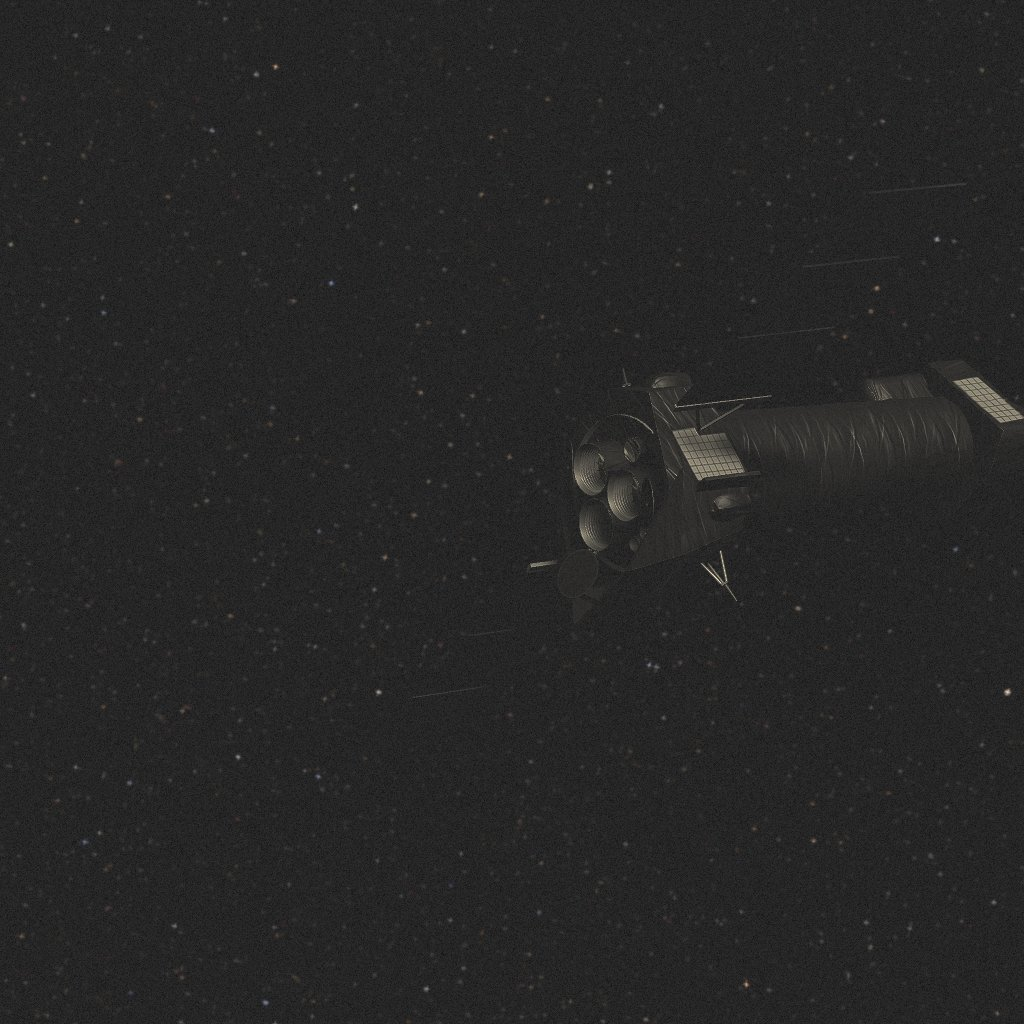xmm_newton: (359, 183, 1024, 757)
